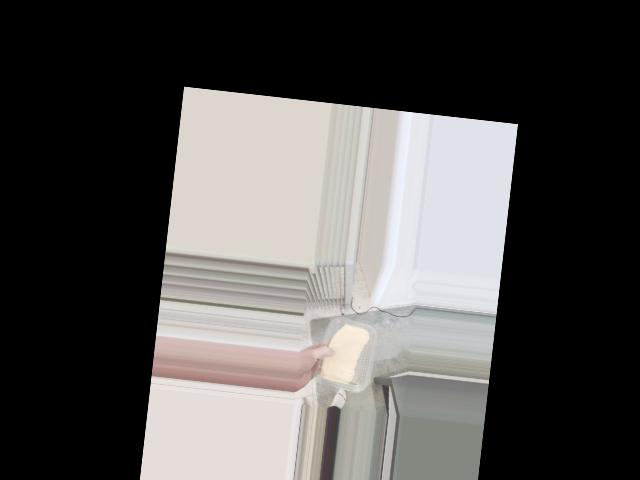cheese: (315, 316, 373, 392)
